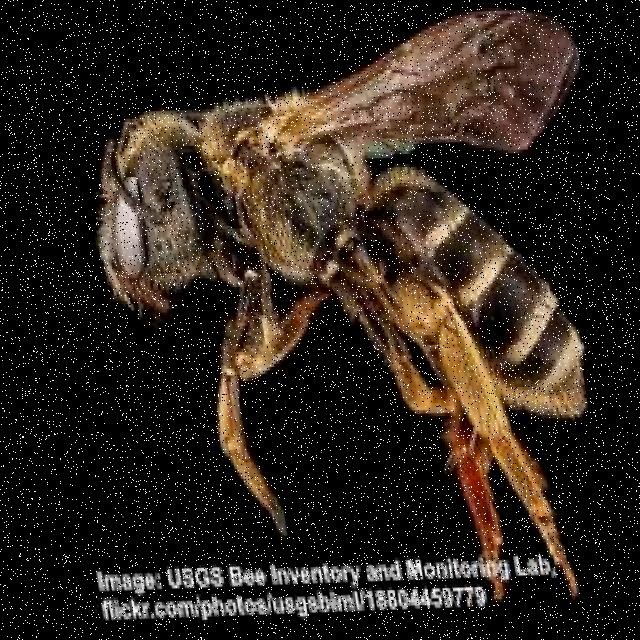Meliponula: (40, 3, 630, 536)
